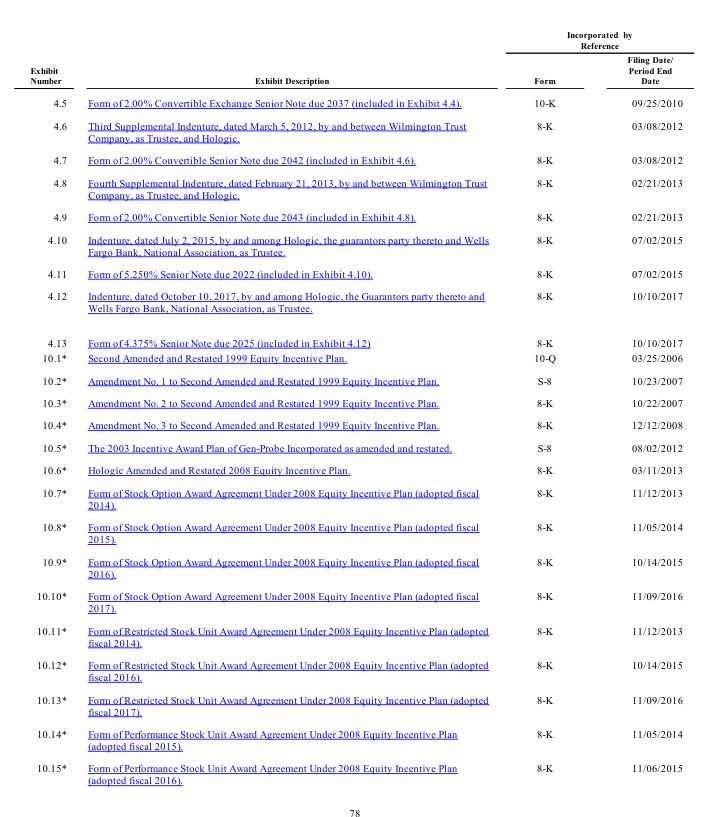table: (29, 29, 681, 785)
table column: (76, 29, 510, 785), (590, 29, 681, 785), (510, 29, 590, 785), (29, 29, 76, 785)
table column header: (29, 29, 681, 90)
table row: (29, 284, 681, 325), (29, 52, 681, 90), (29, 113, 681, 148), (29, 170, 681, 205), (29, 227, 681, 262), (29, 549, 681, 584), (29, 618, 681, 653), (29, 687, 681, 722), (29, 481, 681, 515), (29, 515, 681, 549), (29, 584, 681, 618), (29, 653, 681, 687), (29, 722, 681, 756), (29, 756, 681, 785), (29, 325, 681, 349), (29, 29, 681, 52), (29, 90, 681, 113), (29, 368, 681, 391), (29, 413, 681, 436), (29, 458, 681, 481), (29, 148, 681, 170), (29, 205, 681, 227), (29, 262, 681, 284), (29, 391, 681, 413), (29, 436, 681, 458), (29, 349, 681, 368)
table spanning cell: (76, 29, 510, 90), (510, 29, 681, 52), (29, 29, 76, 90)
